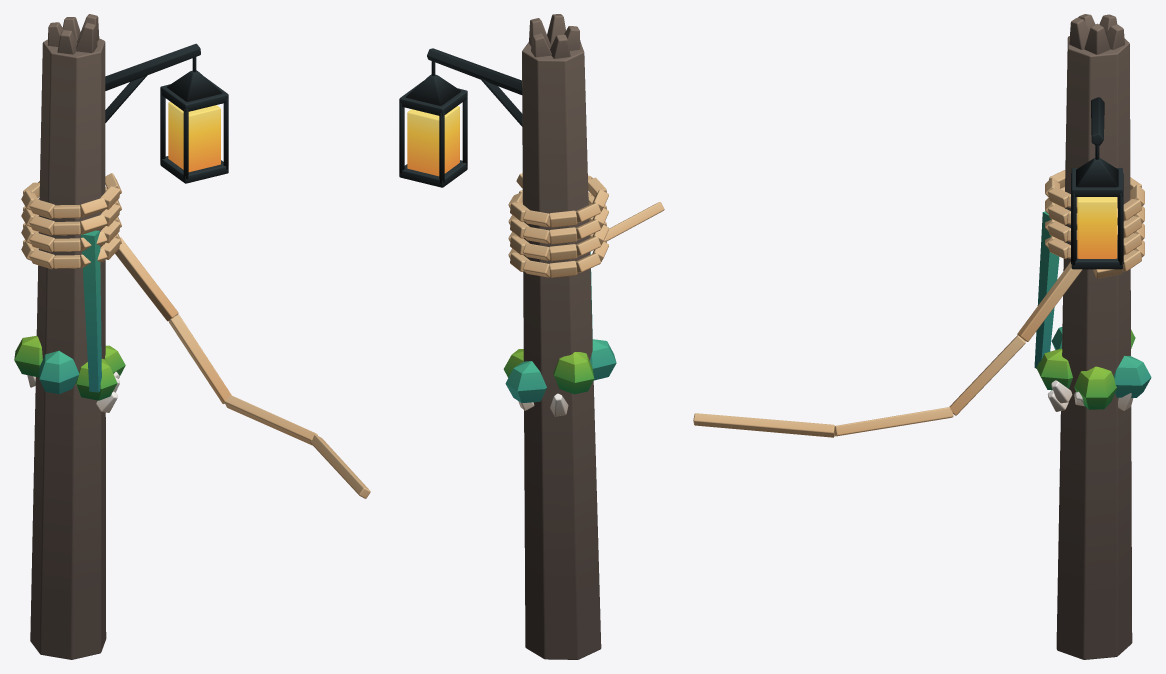
The model's file is mooring_post.glb.
3 renders of one model, left to right at view 1: azimuth 30°, elevation 25°; view 2: azimuth 150°, elevation 25°; view 3: azimuth 270°, elevation 25°, orthographic.
Visible parts, largest first — view 1: mooring_post; view 2: mooring_post; view 3: mooring_post.
Part boxes in pixels (x1=…): mooring_post: x1=14, y1=14, x2=370, y2=659; mooring_post: x1=399, y1=14, x2=664, y2=659; mooring_post: x1=693, y1=14, x2=1151, y2=659.
Size of the model in its own units: 0.9647 by 2.97 by 1.96.
2 materials, 2 textured.
